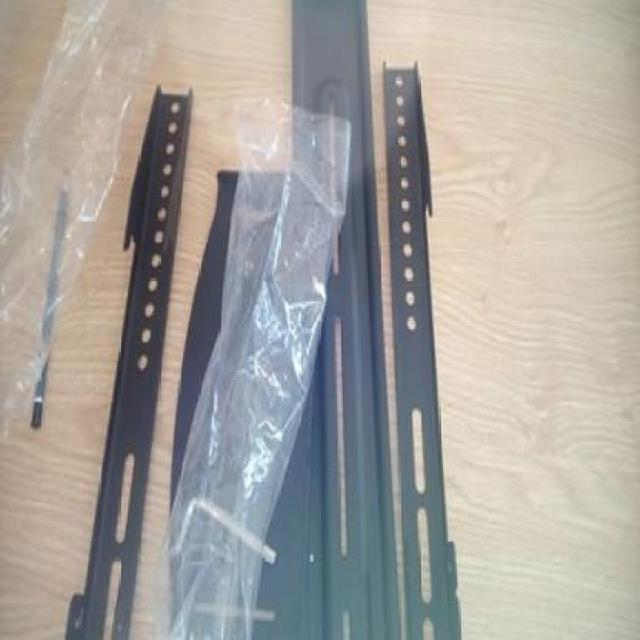plastic bag: (166, 94, 349, 626), (0, 0, 174, 446)
